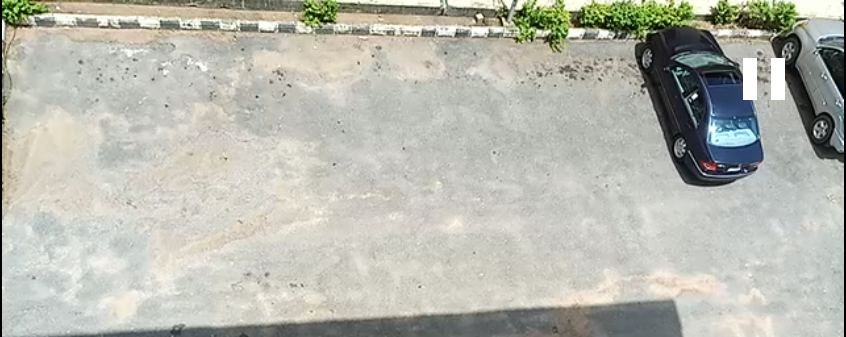one: (2, 1, 128, 202)
three: (381, 5, 516, 208)
two: (217, 1, 344, 208)
